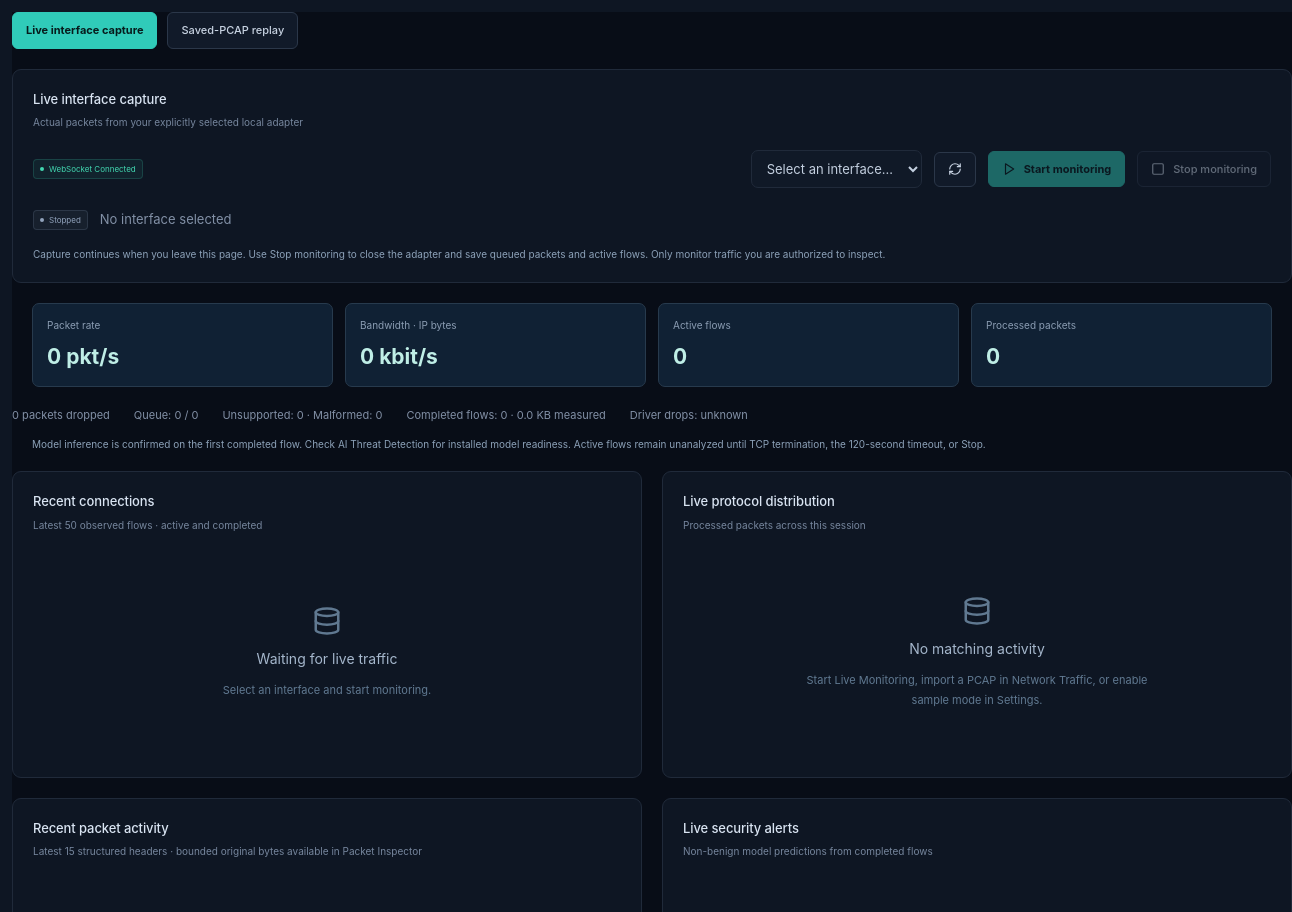
it: requires explicit interface selection and supports start, streamed metrics and stop
Expected: the button "Start monitoring" is disabled, x1=988 y1=151 x2=1125 y2=187
Select "Wi-Fi · 192.168.1.2" in the dropdown named "Capture interface" at (836, 169), box x1=751 y1=150 x2=922 y2=188
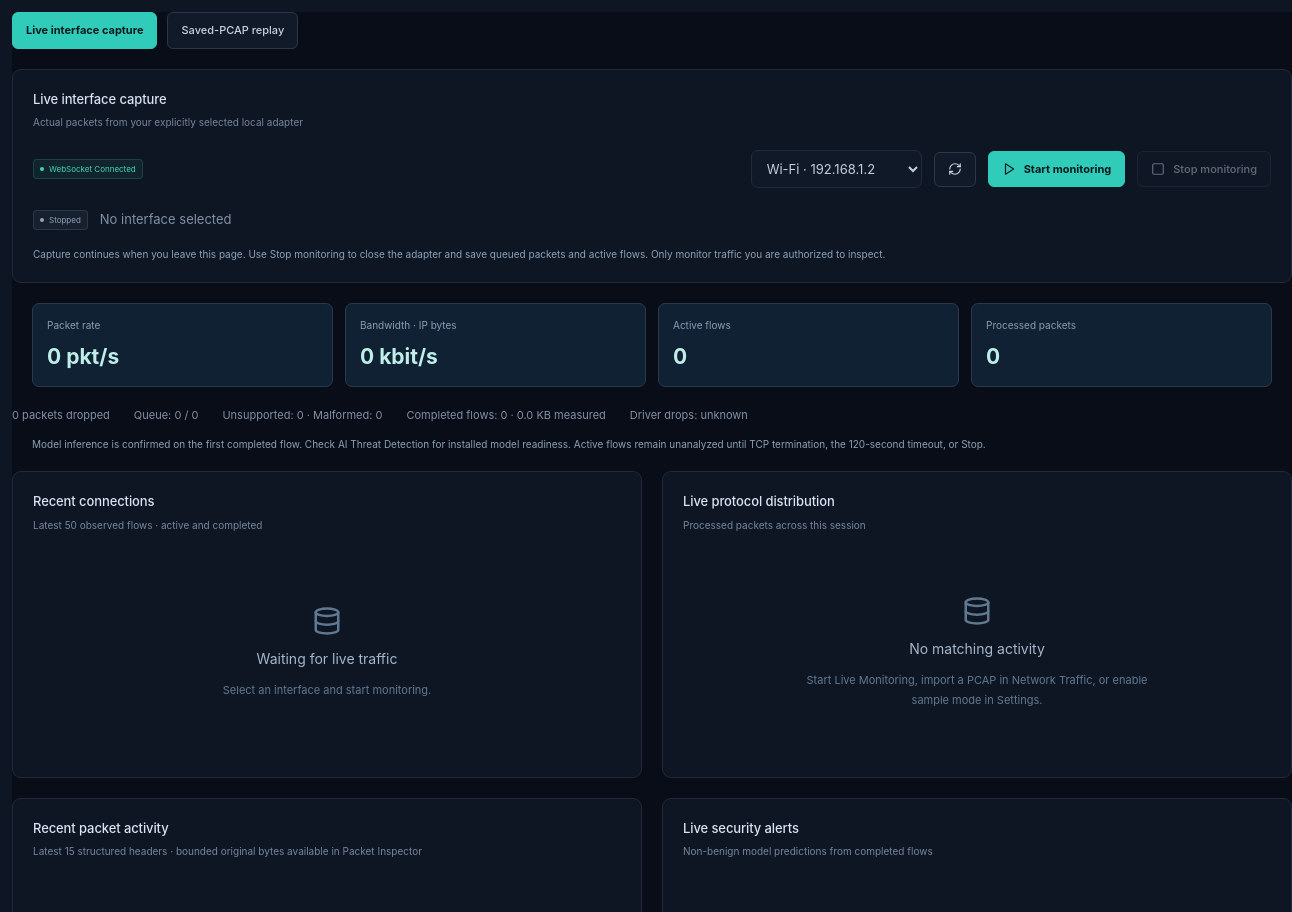
Click the button "Start monitoring".
click(1056, 169)  # box x1=988 y1=151 x2=1125 y2=187
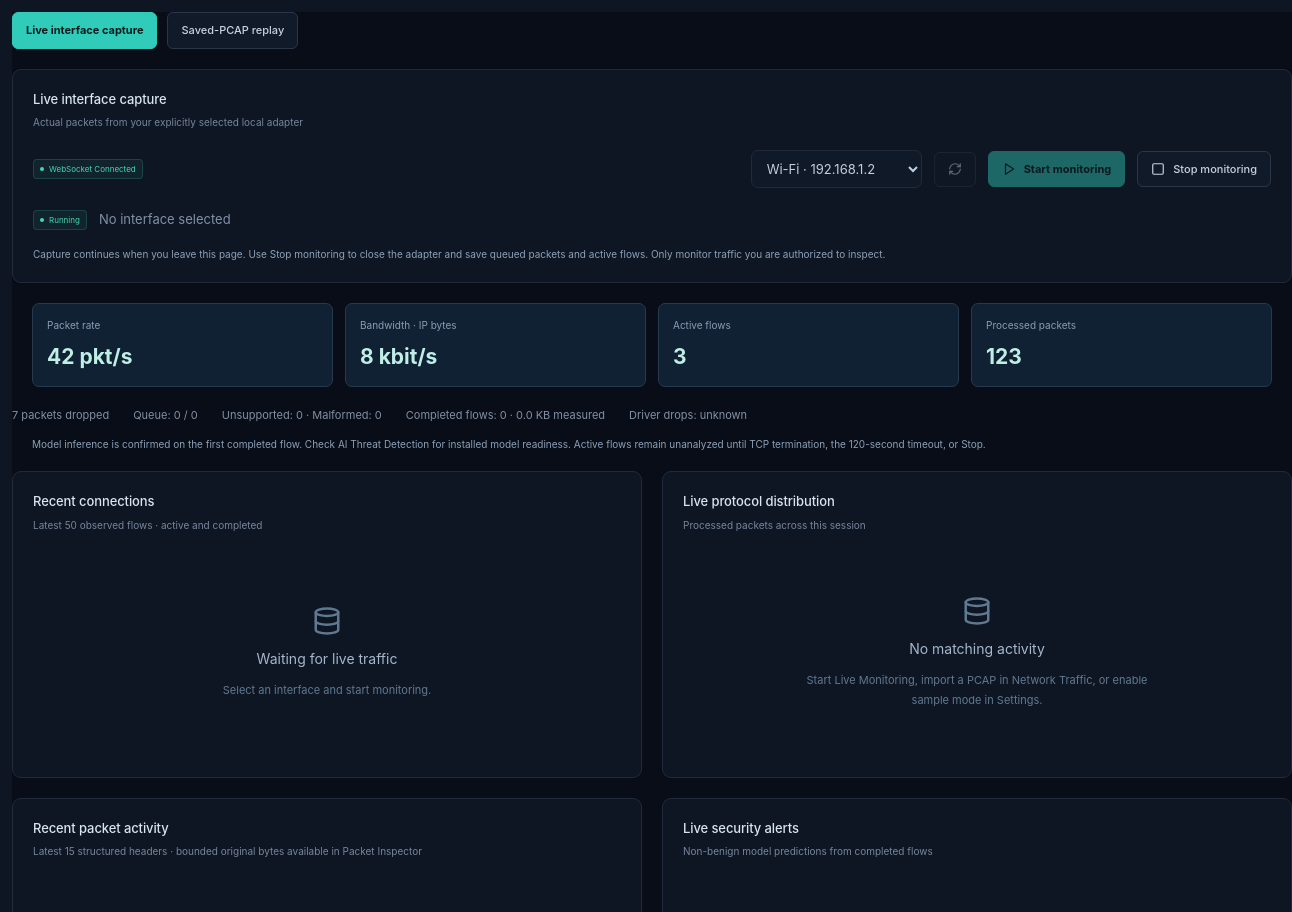
Expected: the dropdown named "Capture interface" is disabled, x1=751 y1=150 x2=922 y2=188
Expected: the text "42 pkt/s" is shown, x1=47 y1=344 x2=132 y2=368
Expected: the text "7 packets dropped" is shown, x1=12 y1=407 x2=109 y2=424
Click the button "Stop monitoring".
click(1204, 169)  # box x1=1137 y1=151 x2=1271 y2=187
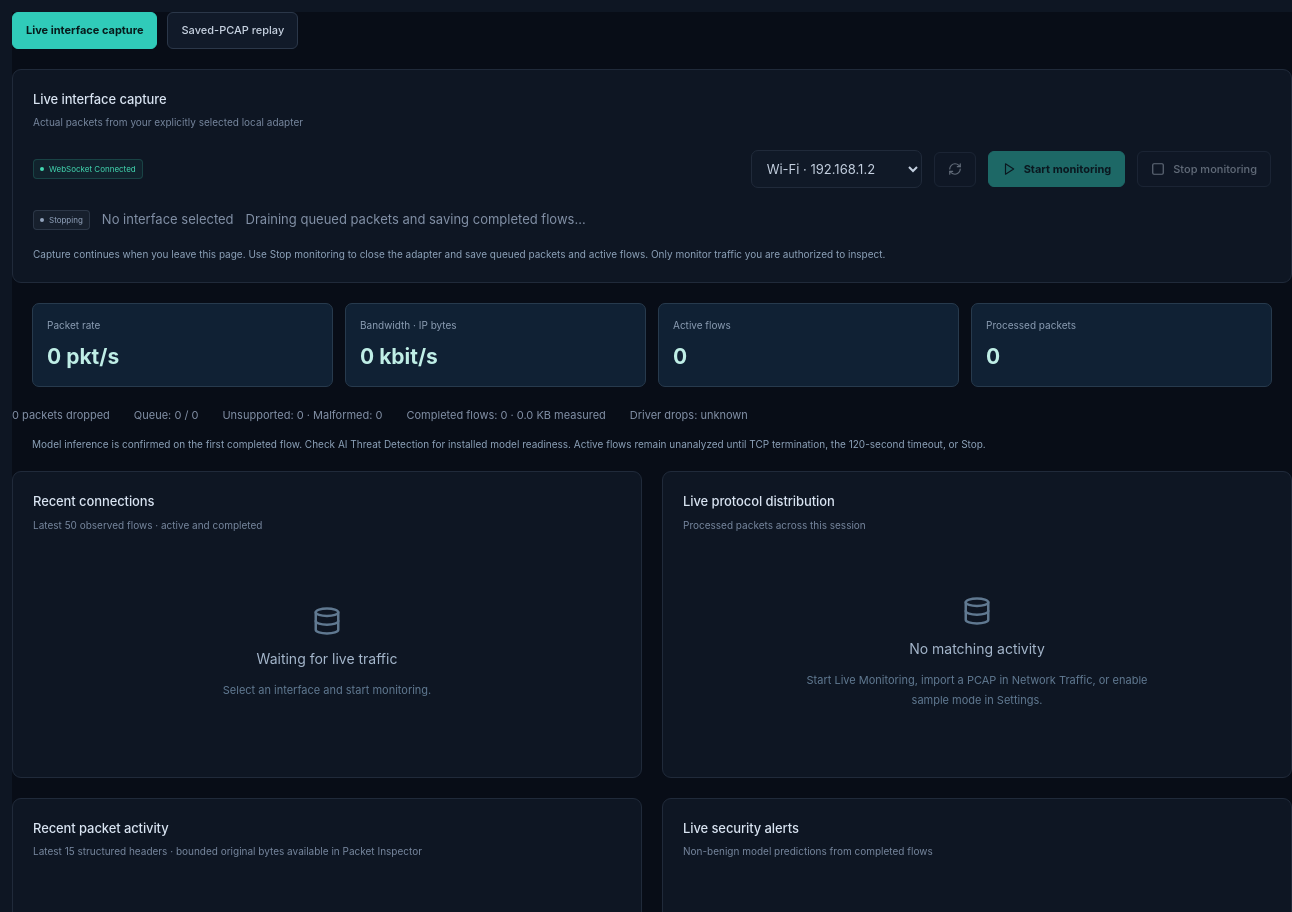
Expected: the text "Draining queued packets and saving completed flows…" is shown, x1=246 y1=210 x2=586 y2=230
